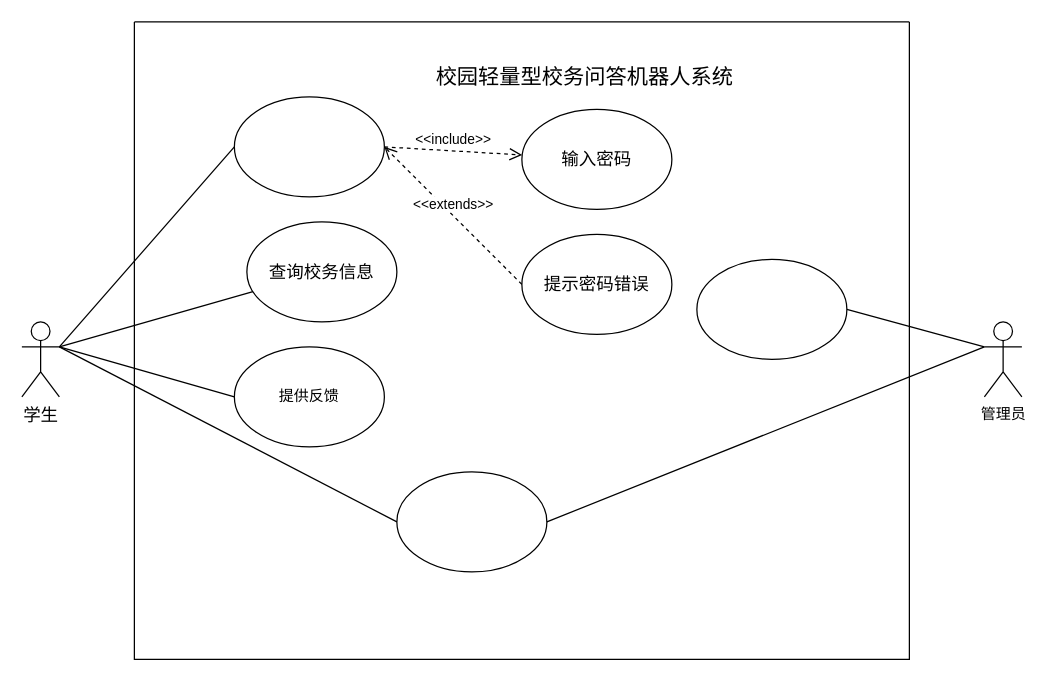
Image size: 1048x681. Some labels were removed from this diagram. Here are the shapes that lost their labels. From the top down, the centre of each, then its label:
At point (308, 146): "用户认证".
At point (771, 308): "管理知识库".
At point (471, 521): "获取实时数据".
